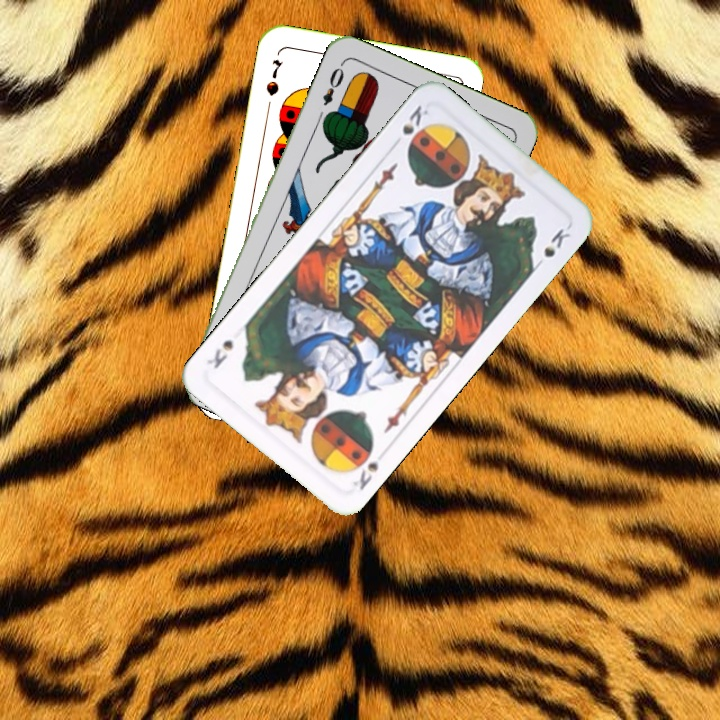EO: (318, 63, 347, 109)
S7: (262, 55, 285, 99)
SK: (387, 101, 432, 151), (349, 458, 382, 493)
